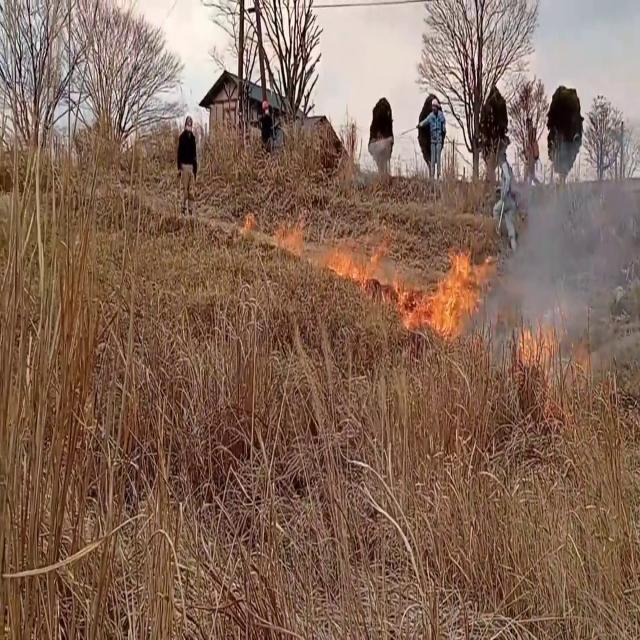Fire: (286, 221, 402, 300), (399, 242, 482, 349)
Smoke: (492, 145, 640, 364)
